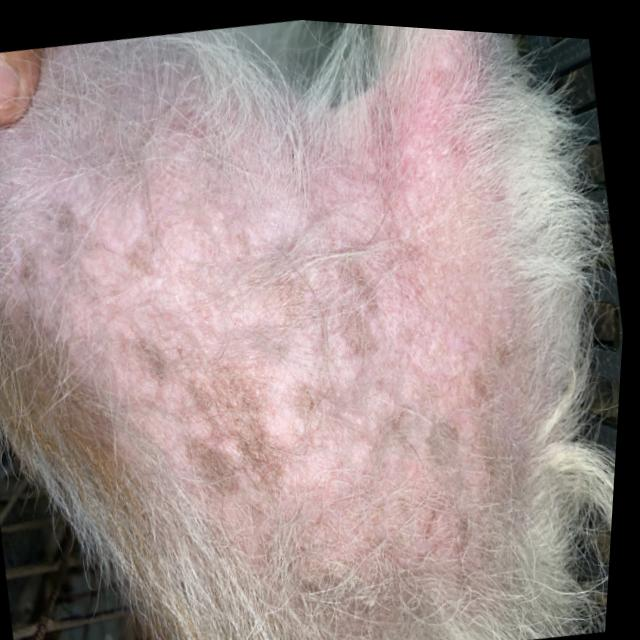demodicosis: (307, 65, 600, 550), (79, 96, 333, 544)
